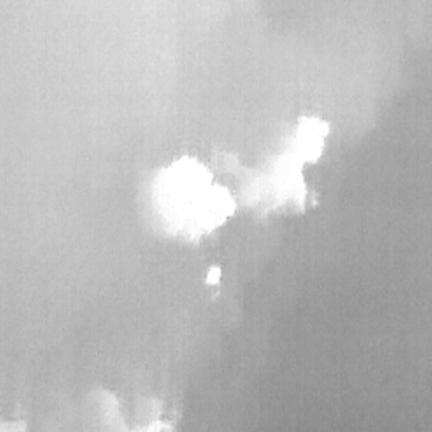flukeprints: (240, 116, 329, 215), (152, 155, 236, 243), (206, 266, 221, 285)
